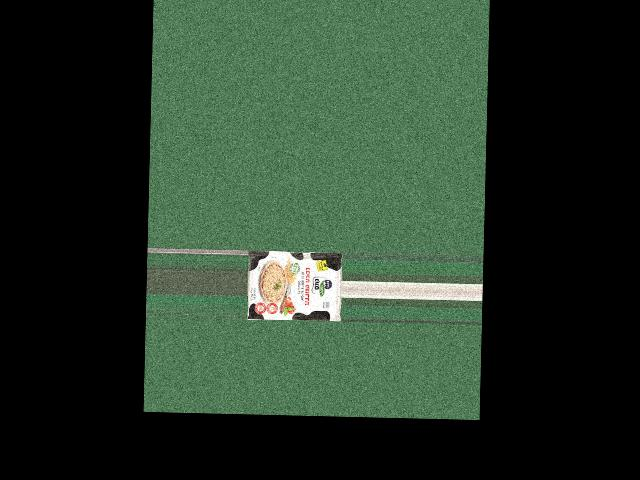cheese: (250, 249, 335, 333)
